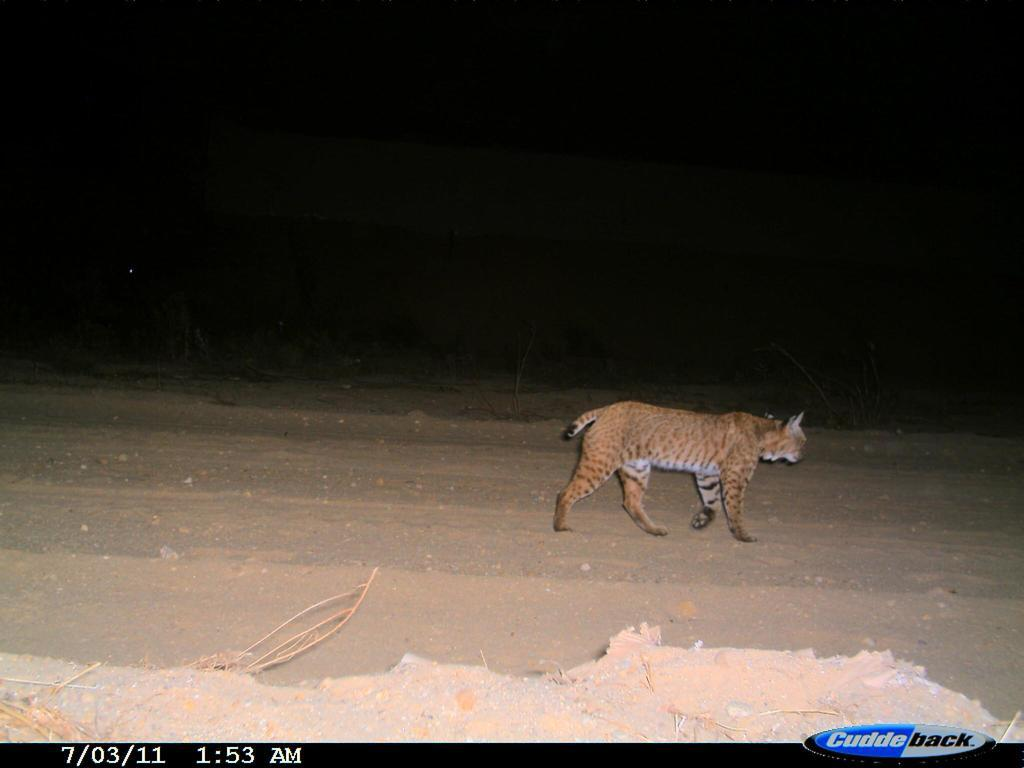bobcat: (543, 391, 818, 551)
